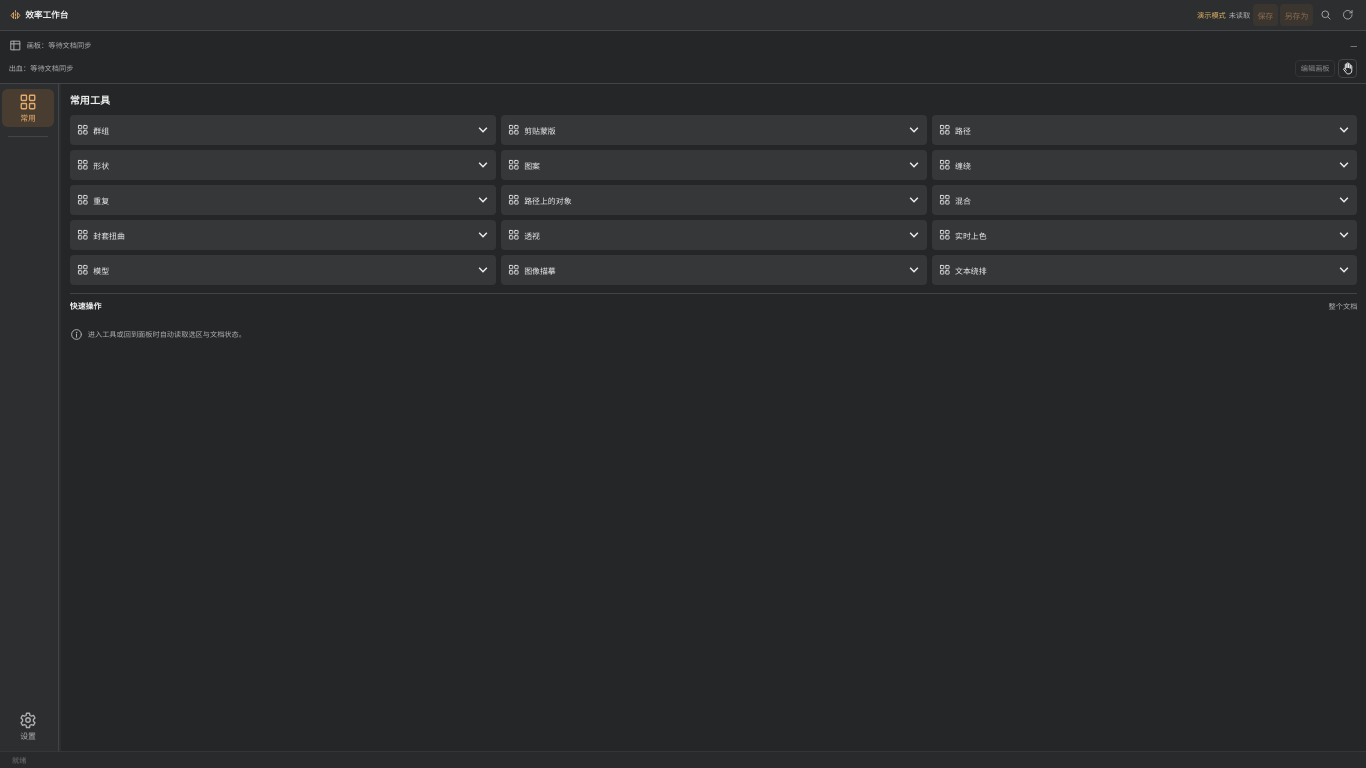
Test: U04 键盘操作 › Ctrl+K 打开命令搜索，Escape 关闭，Enter 执行第一个匹配
This screenshot has width=1366, height=768.
Press k
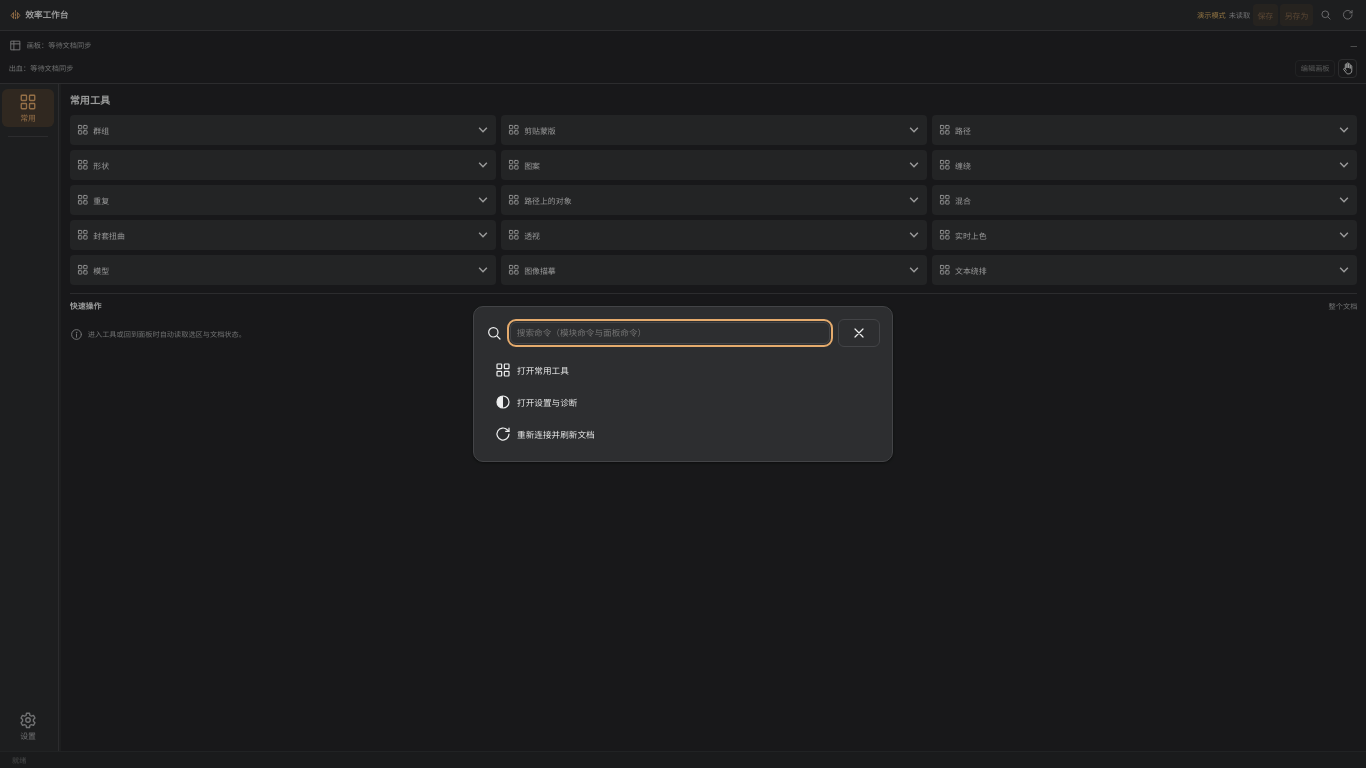
Now the dialog named "命令搜索" is shown, box x1=473 y1=306 x2=893 y2=462
# Enter 打开设置；不再暴露模块启停流程。
Type "设置" into the field labelled "搜索命令" at [670, 333], box x1=510 y1=322 x2=830 y2=344
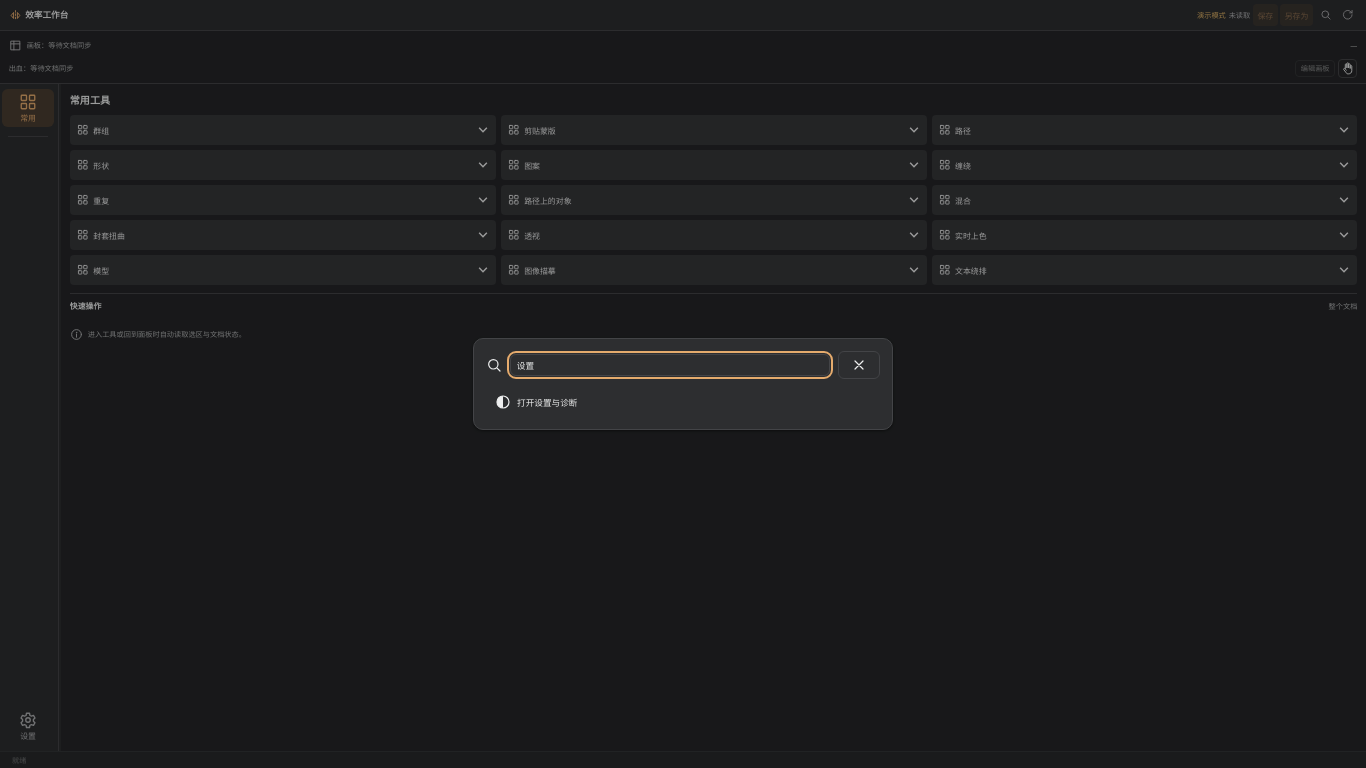
Press Enter in the field named "搜索命令", box x1=510 y1=354 x2=830 y2=376
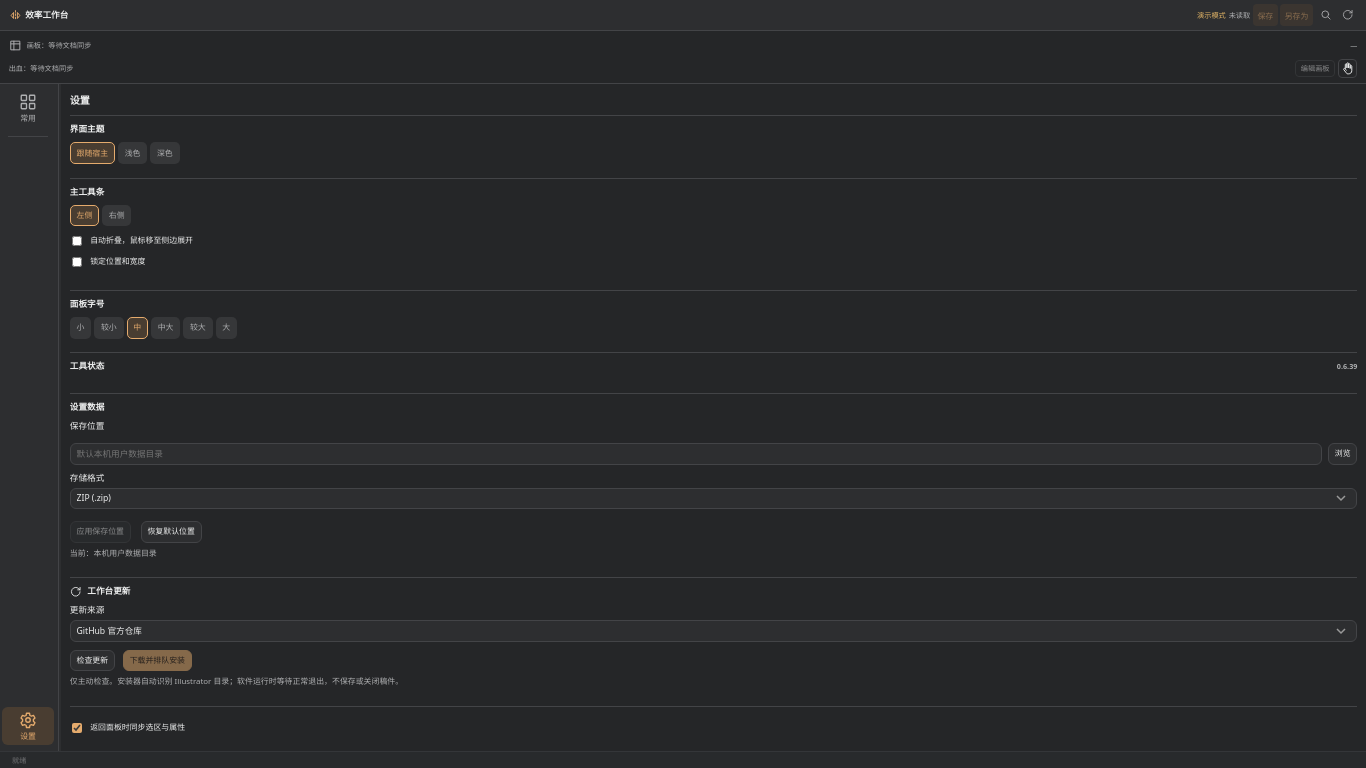
Now the heading "设置" is shown, box x1=70 y1=93 x2=90 y2=107
# 再次打开后 Escape 关闭。
Press k
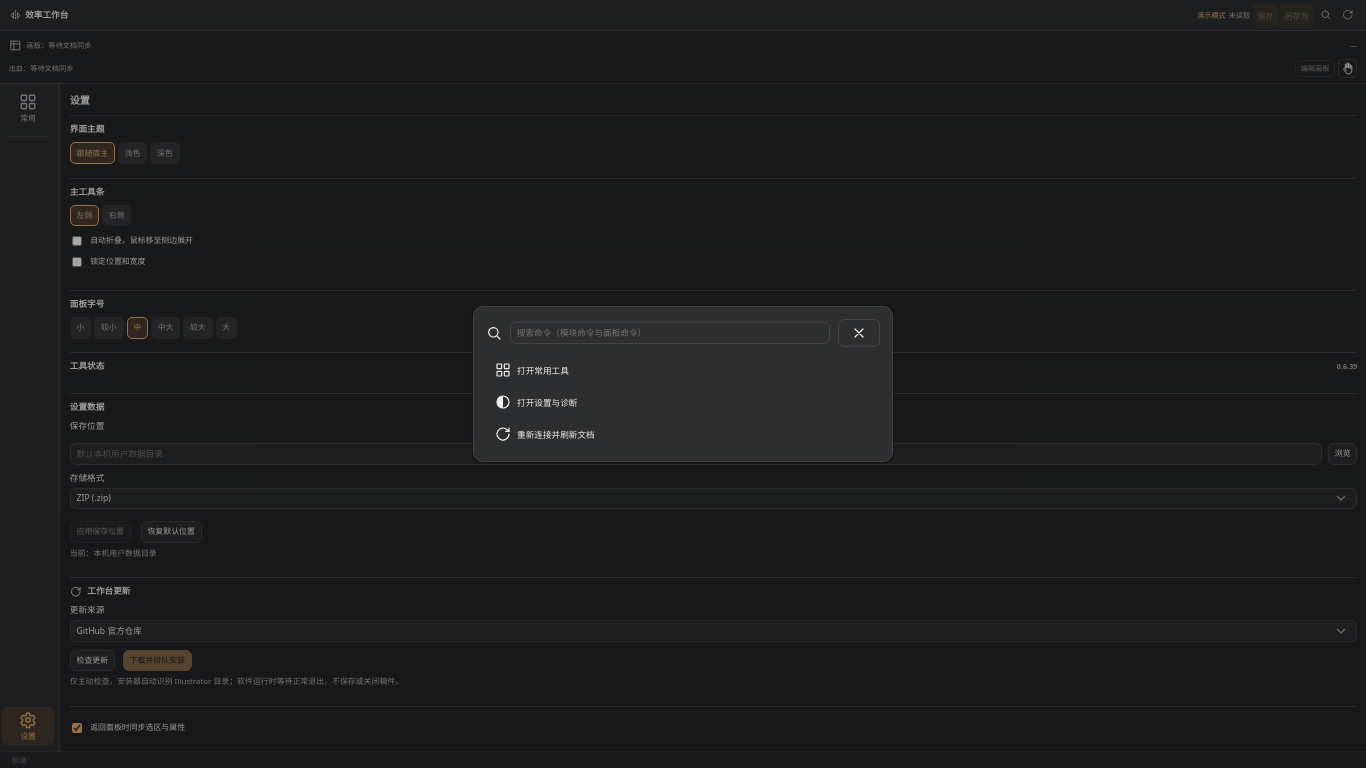
Press Escape in the field labelled "搜索命令", box x1=510 y1=322 x2=830 y2=344
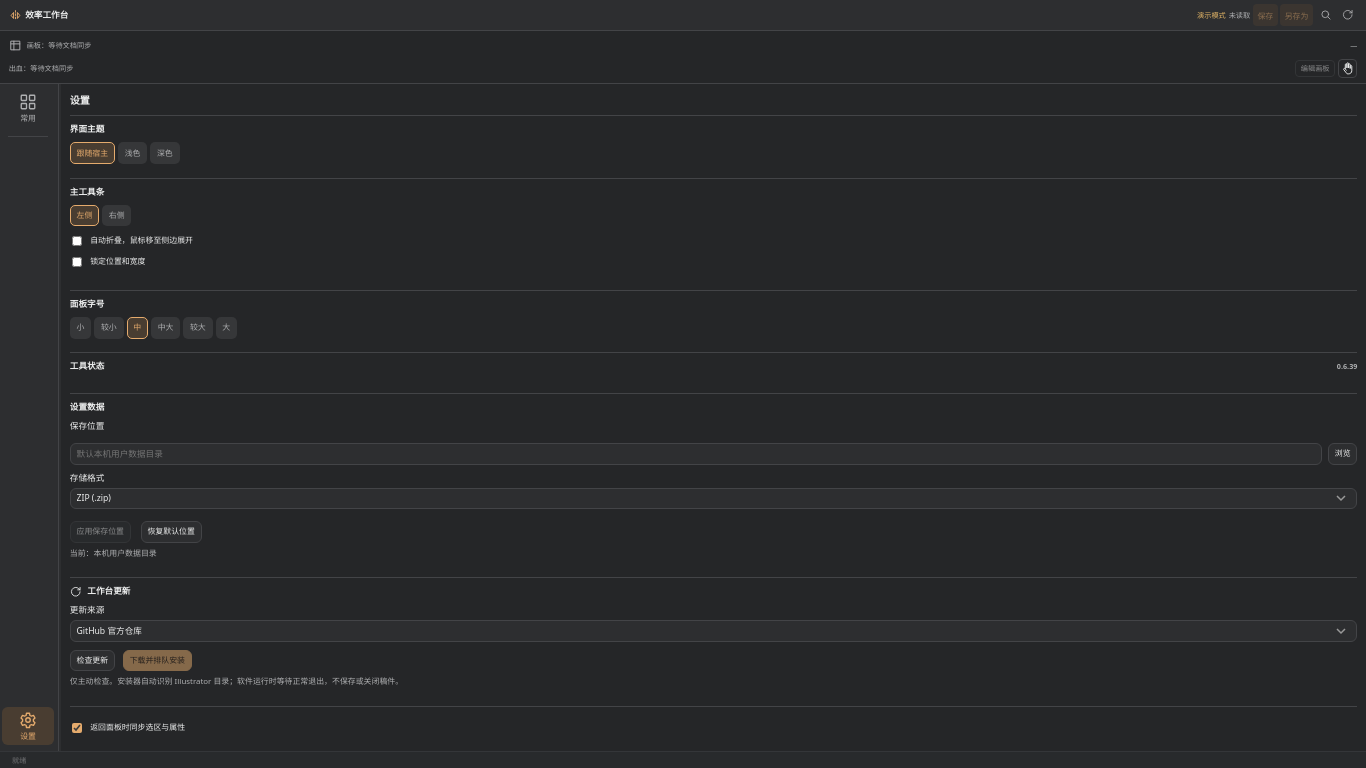
Now the dialog "命令搜索" is gone
